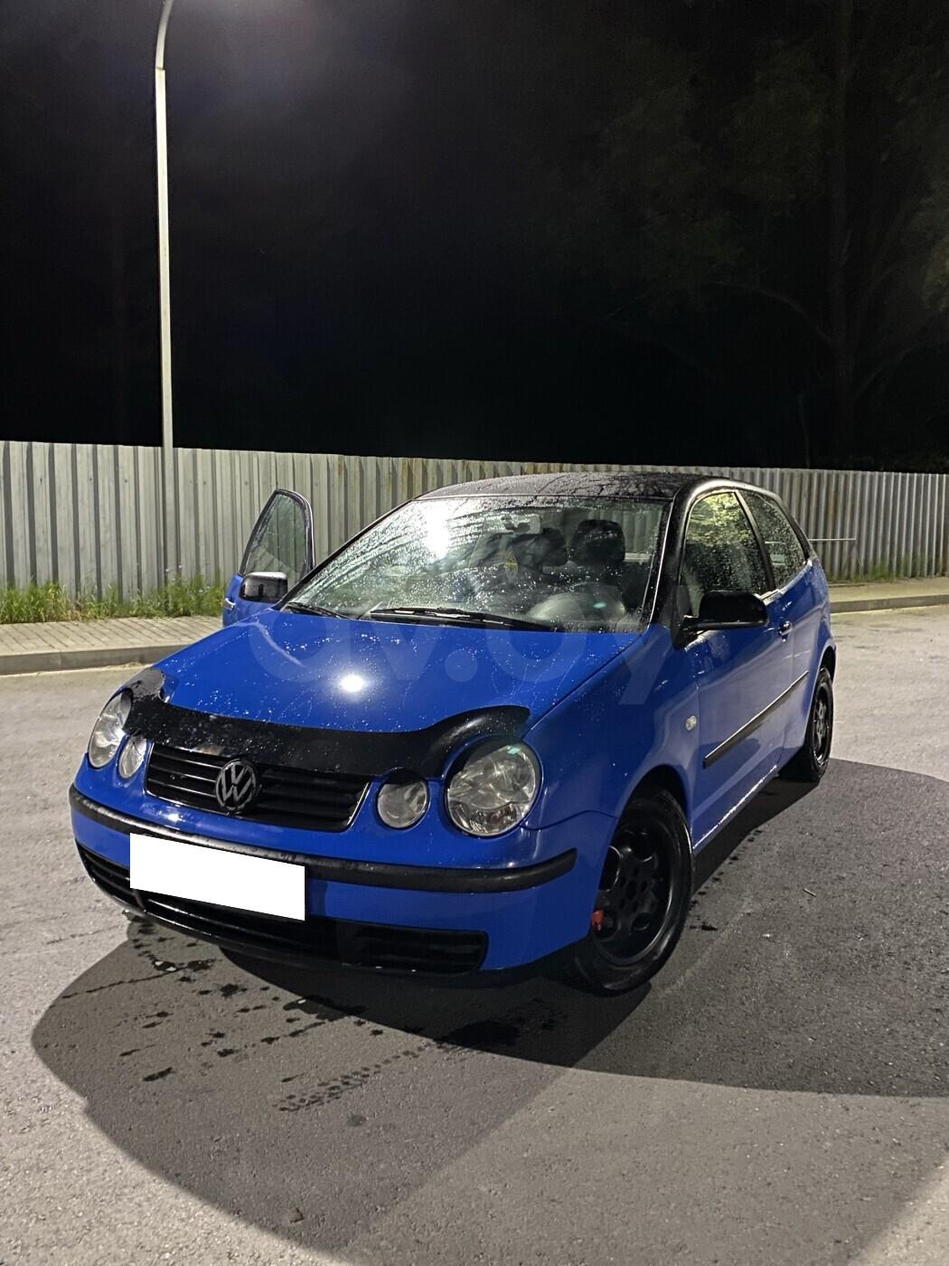Polo_2001-2005: (59, 464, 849, 1040)
